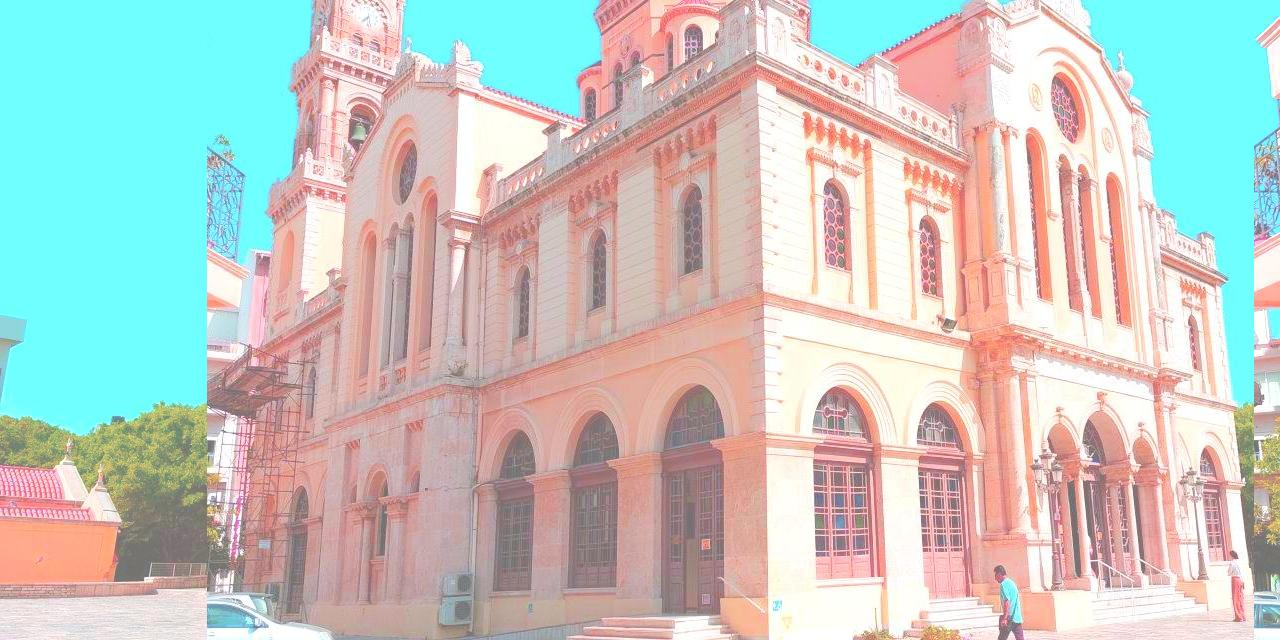Agios Minas: (208, 1, 1255, 640)
